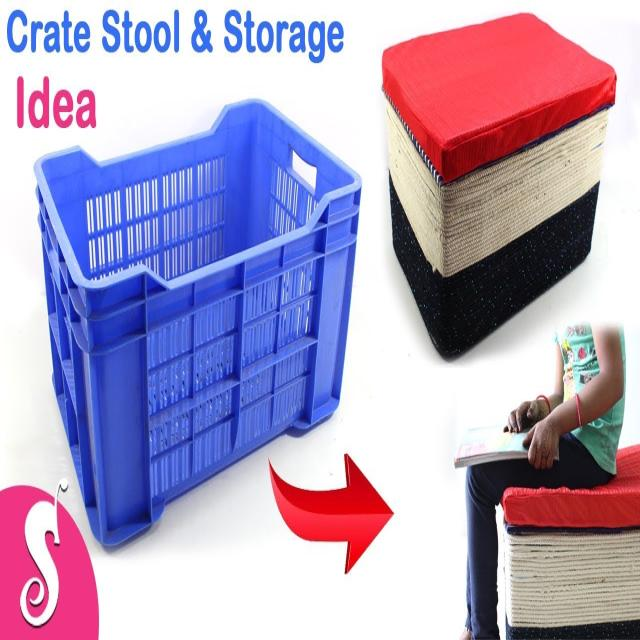basket: (9, 82, 418, 552)
